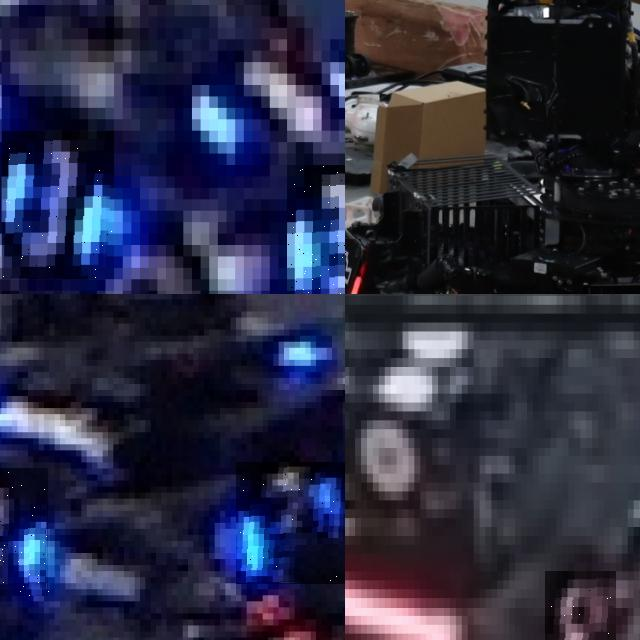B3: (2, 131, 114, 279), (236, 462, 345, 583), (287, 165, 345, 294), (0, 468, 49, 595)
R5: (545, 571, 616, 640)
